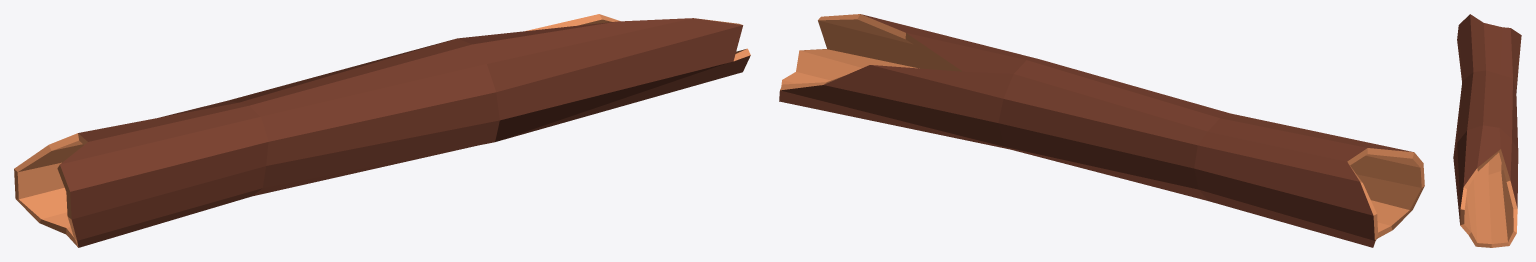
The model's file is pine_trunk_type_12_LOD0.fbx.
The picture shows the model from 3 angles, left to right: view 1: azimuth 30°, elevation 25°; view 2: azimuth 150°, elevation 25°; view 3: azimuth 270°, elevation 25°; orthographic projection. The views are drawn at different scales.
Visible parts, largest first — view 1: pt_type_12; view 2: pt_type_12; view 3: pt_type_12.
Part boxes in pixels (box(x1,y1,x2,y2)): pt_type_12: box(14, 14, 750, 247); pt_type_12: box(779, 14, 1424, 247); pt_type_12: box(1453, 14, 1521, 247).
Bounding box in the file's own units: 629 × 87.39 × 95.9.
